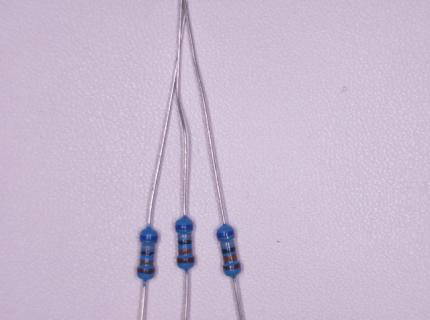Black band: (221, 247, 236, 255), (178, 239, 191, 246), (140, 251, 155, 257)
Blue band: (217, 229, 236, 239), (139, 234, 157, 241), (175, 225, 193, 231)
Brown band: (222, 263, 242, 272), (177, 256, 195, 264), (137, 268, 155, 274)
Grey band: (221, 241, 235, 248), (177, 234, 192, 240), (140, 245, 156, 250)
Orange band: (222, 254, 239, 264), (179, 248, 193, 255), (139, 260, 154, 266)
